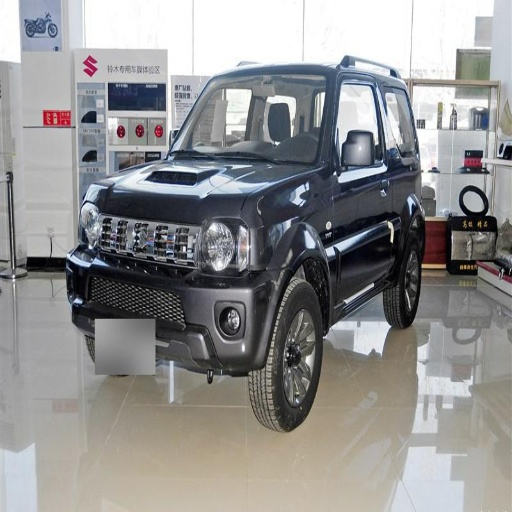front_bumper: (178, 268, 280, 372), (95, 213, 202, 265)
front_glass: (176, 73, 329, 163)
front_left_door: (333, 75, 389, 307)
